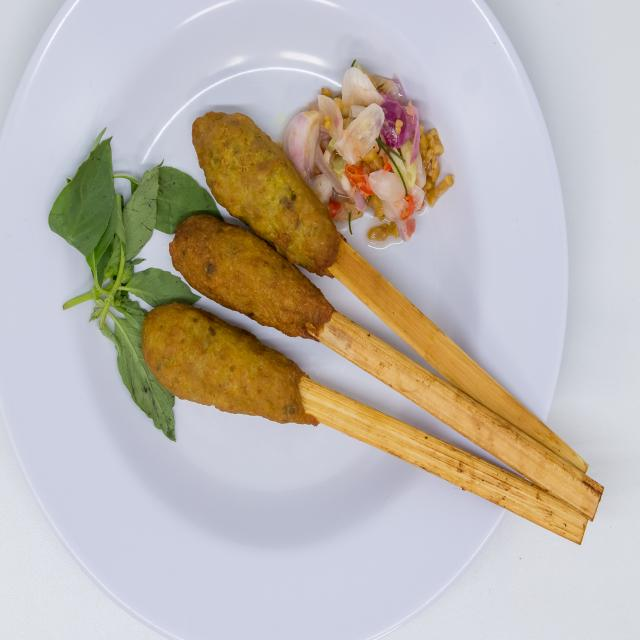Sate-Lilit: (102, 58, 563, 543)
